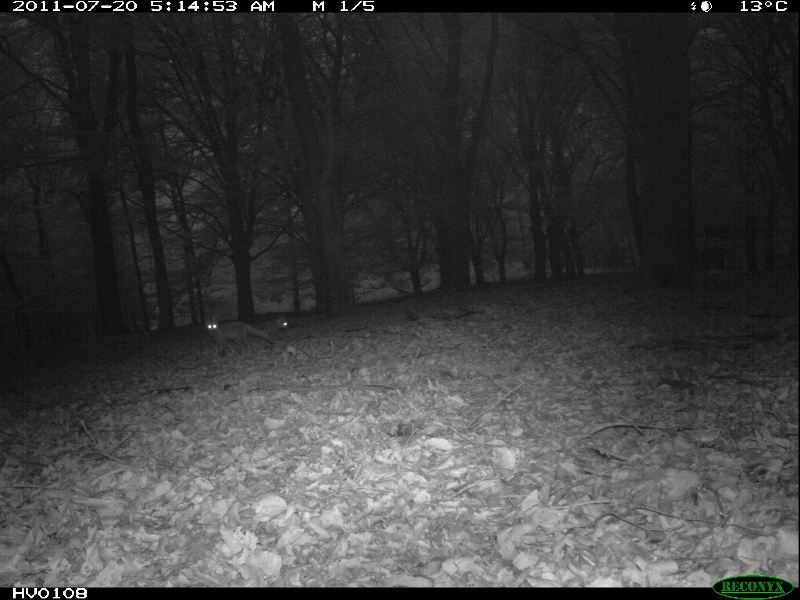fox: (198, 315, 272, 353), (257, 312, 291, 342)
